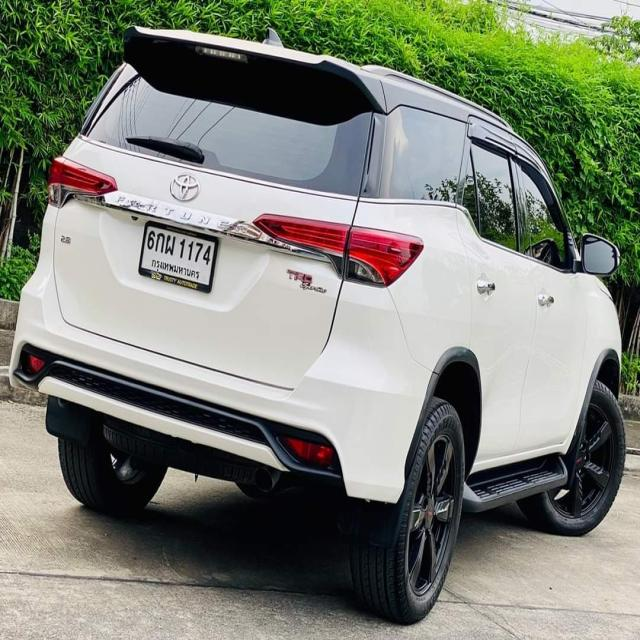license_plate: (138, 214, 220, 297)
